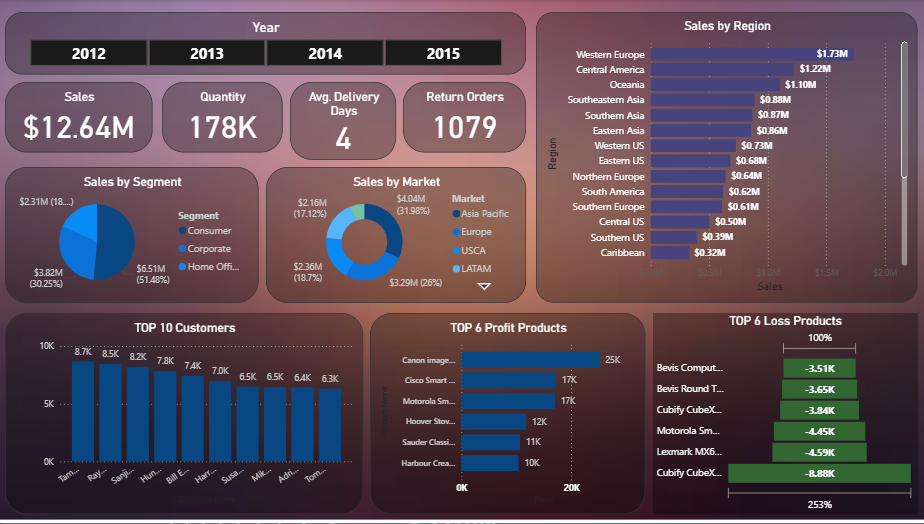

The dashboard page shown, as its layout file describes it:
{"tool":"powerbi","page":{"name":"P","canvas":[1280,720],"ordinal":0},"visuals":[{"type":"card","title":"Sales","fields":{"Values":["Orders.Sales"]},"box":[9.9,112.7,202.8,97.2],"z":0},{"type":"card","title":"Quantity","fields":{"Values":["Orders.Quantity"]},"box":[225.4,112.7,166.2,97.2],"z":1000},{"type":"card","title":"Avg. Delivery Days","fields":{"Values":["Orders.Delivery Days"]},"box":[401.4,112.7,146.5,107],"z":2000},{"type":"slicer","title":"Year","fields":{"Values":["Orders.Year"]},"box":[9.9,16.9,716.9,85.9],"z":3000},{"type":"card","title":"Return Orders","fields":{"Values":["Returns.Return Orders"]},"box":[557.7,112.7,169,97.2],"z":4000},{"type":"barChart","fields":{"Category":["Orders.Region","People.Region"],"Y":["Orders.Sales"]},"box":[740.8,16.9,525.4,400],"z":5000},{"type":"barChart","title":"TOP 6 Profit  Products","fields":{"Category":["Orders.Product Name"],"Y":["Orders.Profit"]},"box":[512.7,431,378.9,277.5],"z":6000},{"type":"funnel","title":"TOP 6 Loss  Products","fields":{"Category":["Orders.Product Name"],"Y":["Orders.Profit"]},"box":[901.4,431,364.8,277.5],"z":7000},{"type":"pieChart","fields":{"Category":["Orders.Segment"],"Y":["Orders.Sales"]},"box":[9.9,229.6,349.3,187.3],"z":8000},{"type":"donutChart","fields":{"Y":["Orders.Sales"],"Category":["Orders.Market"]},"box":[369,229.6,357.7,187.3],"z":9000},{"type":"columnChart","title":"TOP 10 Customers","fields":{"Y":["Orders.Profit"],"Category":["Orders.Customer Name"]},"box":[9.9,431,493,277.5],"z":10000}]}

Visuals, with their boxes in screenshot pixels (x1, y1, x2, y2), scaled from the page's 1280x720 canvas onto the 924x524 screenshot:
"Sales" card: 7/82/154/153
"Quantity" card: 163/82/283/153
"Avg. Delivery Days" card: 290/82/396/160
"Year" slicer: 7/12/525/75
"Return Orders" card: 403/82/525/153
barChart - Orders.Region x People.Region: 535/12/914/303
"TOP 6 Profit  Products" barChart: 370/314/644/516
"TOP 6 Loss  Products" funnel: 651/314/914/516
pieChart - Orders.Segment x Orders.Sales: 7/167/259/303
donutChart - Orders.Sales x Orders.Market: 266/167/525/303
"TOP 10 Customers" columnChart: 7/314/363/516
